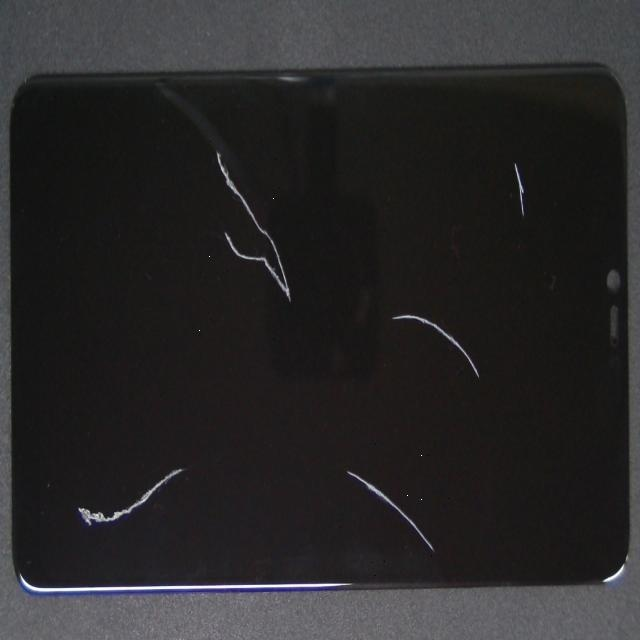scratch: (112, 206, 557, 640), (115, 23, 314, 242)
